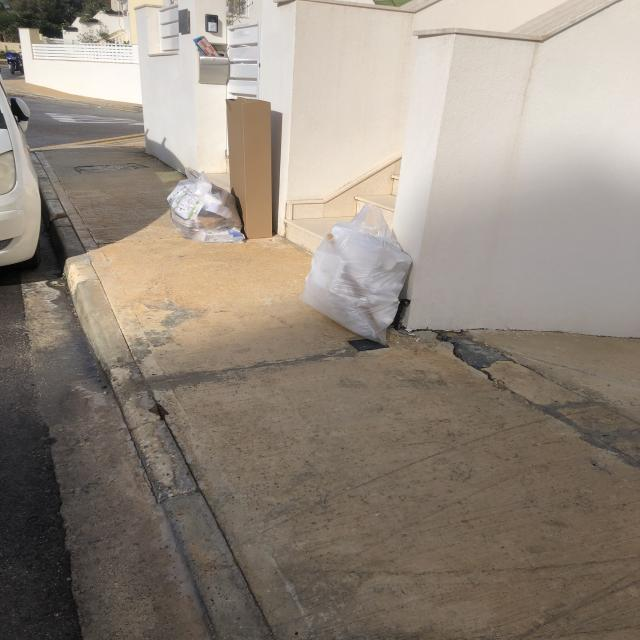Organic Waste -White Bag-: (305, 208, 413, 341), (167, 174, 246, 246)
Other: (227, 98, 280, 241)
